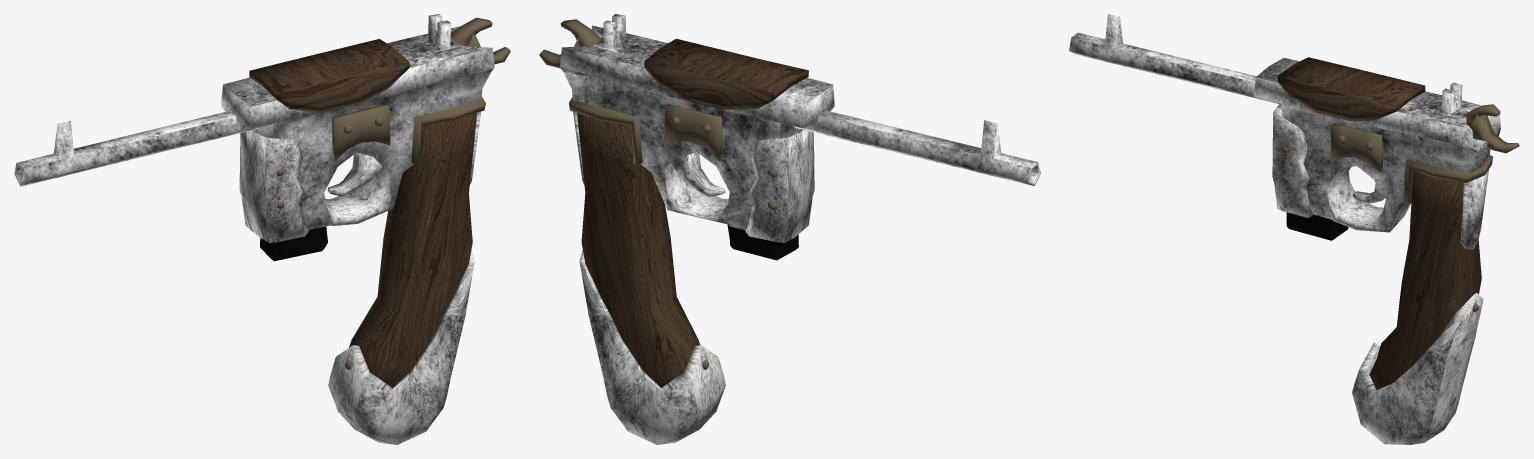
File: Gun.fbx
3 views of the same model, side by side, from view 1: azimuth 30°, elevation 25°; view 2: azimuth 150°, elevation 25°; view 3: azimuth 330°, elevation 25° (orthographic). The views are drawn at different scales.
Visible parts, largest first — view 1: Cube.004, Cube.003, Cube.009; view 2: Cube.004, Cube.003, Cube.009; view 3: Cube.004, Cube.003, Cube.009.
Boxes of the visible parts, x1,y1,x2,y2 form: Cube.004: [14, 14, 510, 444]; Cube.003: [249, 39, 476, 387]; Cube.009: [411, 96, 486, 165]; Cube.004: [539, 14, 1040, 444]; Cube.003: [577, 38, 808, 387]; Cube.009: [569, 97, 642, 164]; Cube.004: [1069, 14, 1519, 444]; Cube.003: [1277, 57, 1481, 389]; Cube.009: [1403, 155, 1492, 203].
Size of the model in its own units: 74.28 by 59.06 by 10.89.
